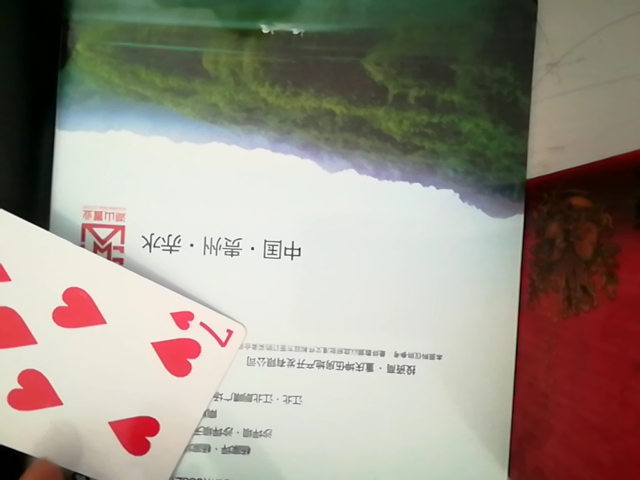hx 7: (4, 189, 241, 477)
